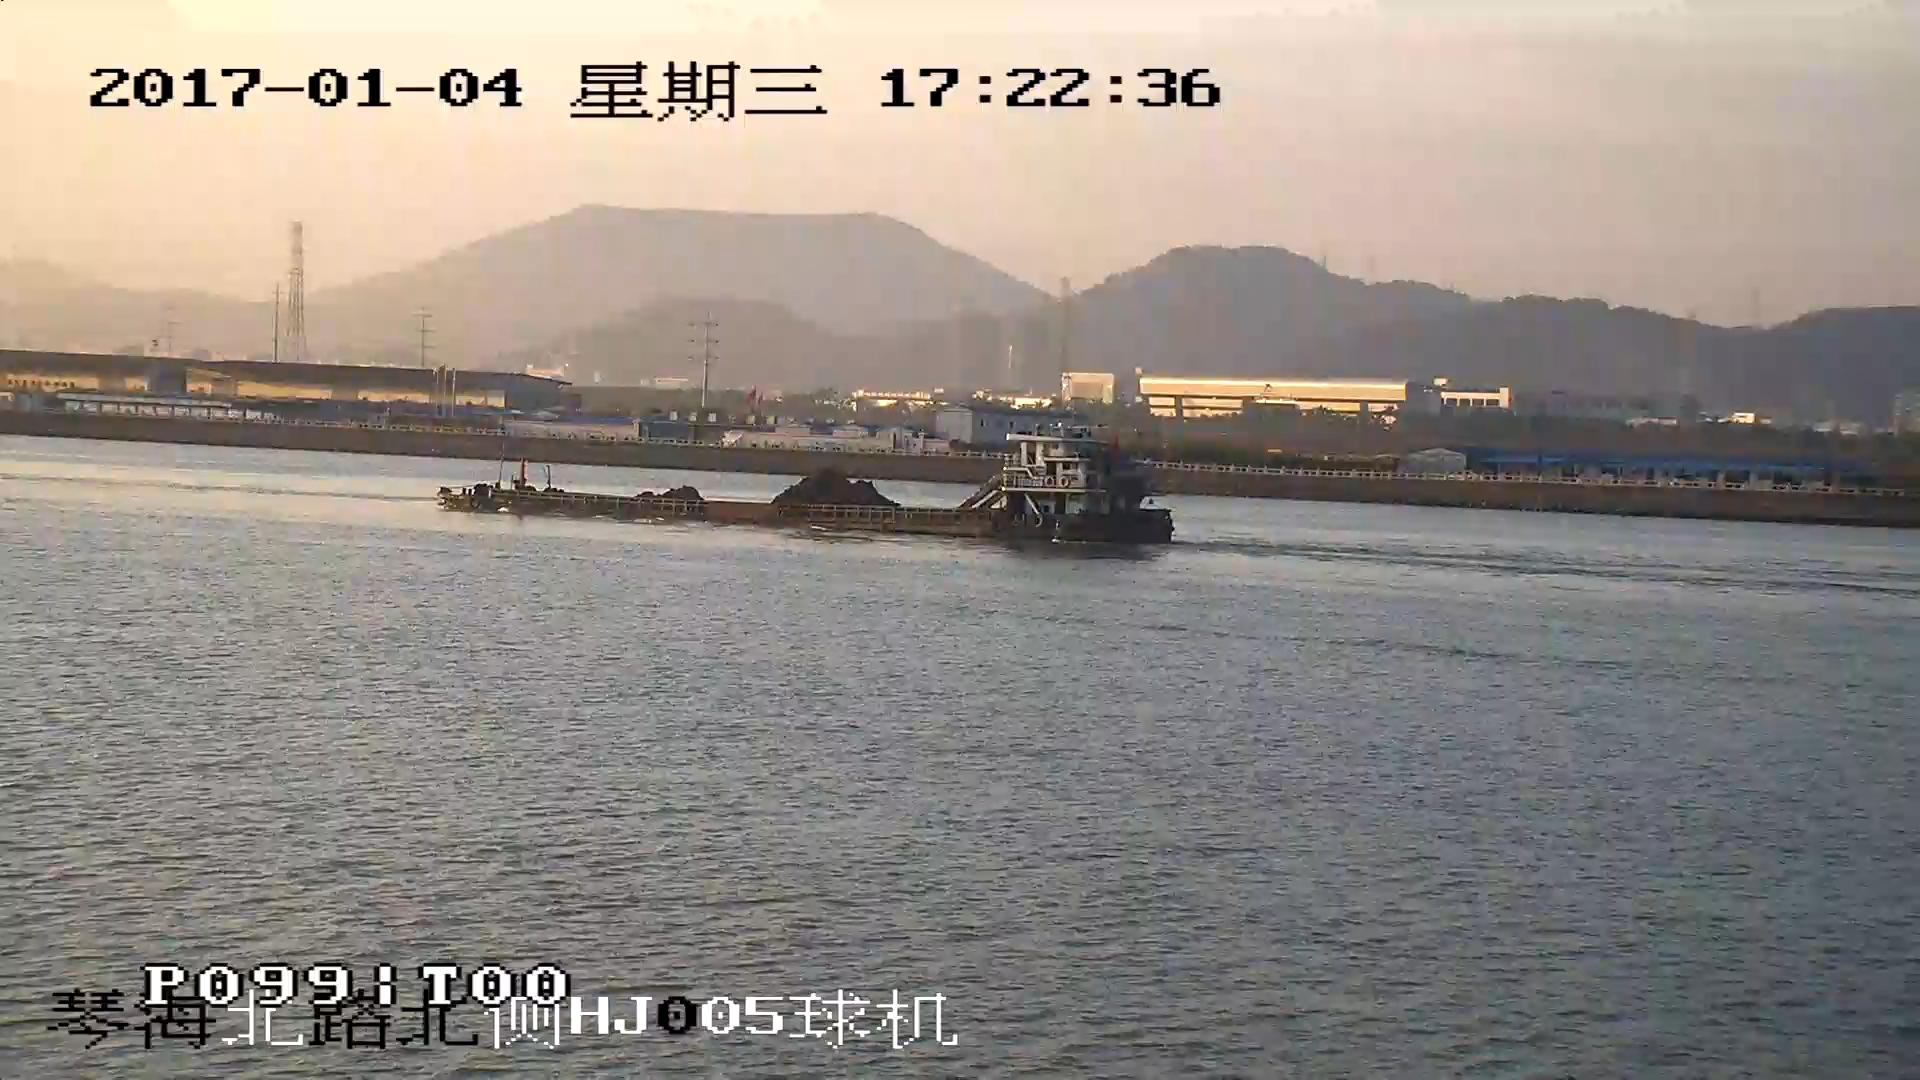ore carrier: (438, 431, 1174, 543)
